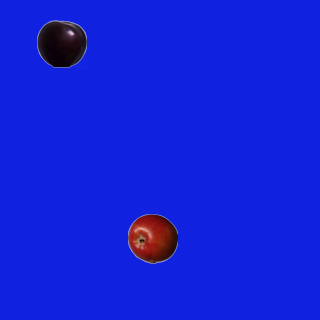Apple Braeburn: (127, 213, 177, 263)
Cherry Wax Black: (36, 18, 86, 68)
